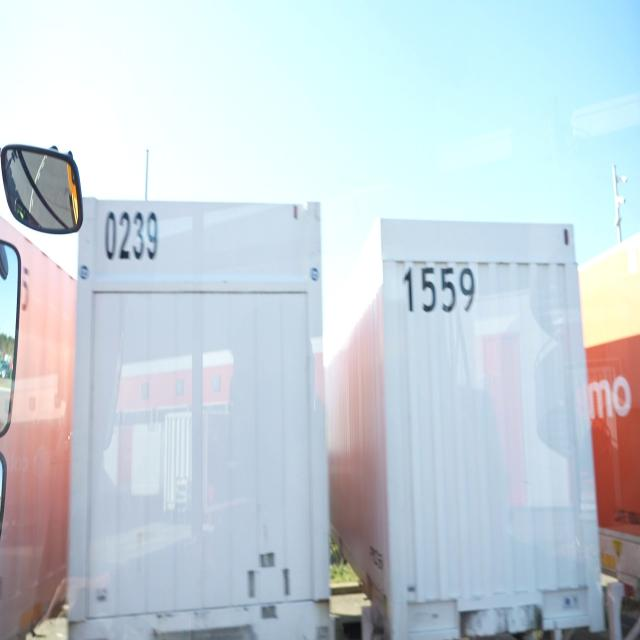Code: (399, 256, 476, 320), (97, 204, 167, 268)
